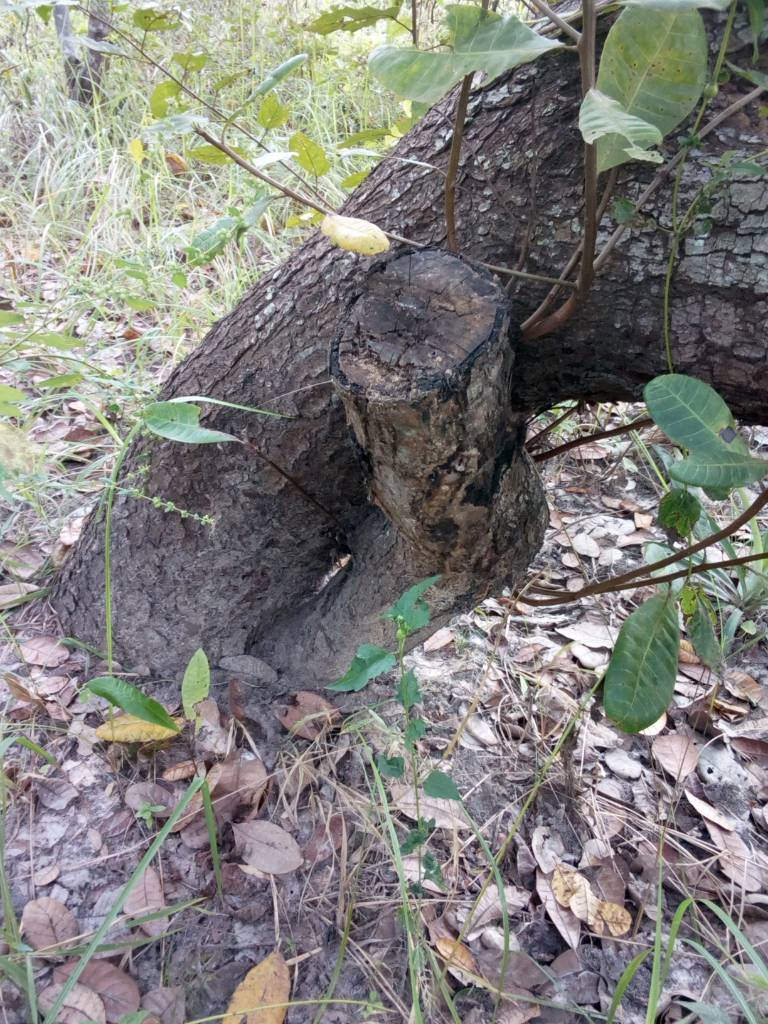Termites: (340, 372, 546, 594)
